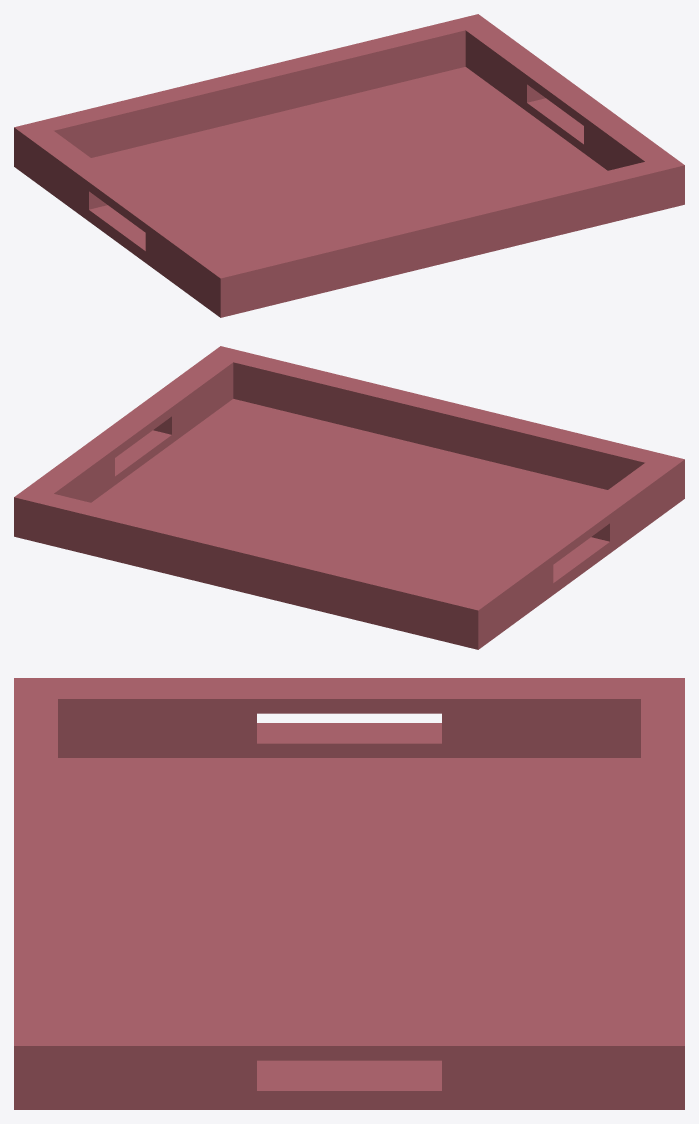
The model's file is SM_Tray_2_01.fbx.
The picture shows the model from 3 angles, top to bottom: view 1: azimuth 30°, elevation 25°; view 2: azimuth 150°, elevation 25°; view 3: azimuth 270°, elevation 25°; orthographic projection. The views are drawn at different scales.
Visible parts, largest first — view 1: SM_Tray_2_01; view 2: SM_Tray_2_01; view 3: SM_Tray_2_01.
Part boxes in pixels (x1,y1,x2,y2): SM_Tray_2_01: (14,14,684,317); SM_Tray_2_01: (14,346,684,649); SM_Tray_2_01: (14,678,684,1109).
Bounding box in the file's own units: 41.85 × 3.39 × 32.26.
